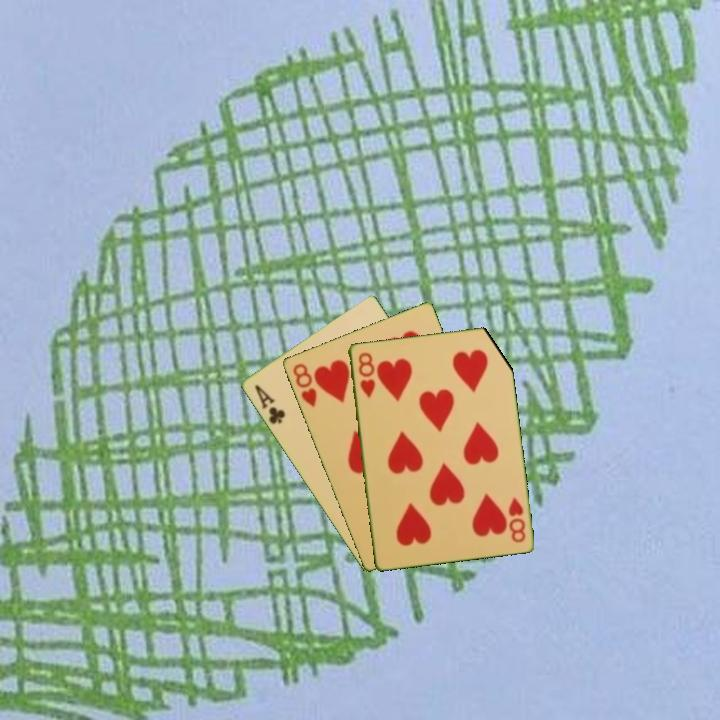8h: (289, 360, 320, 410), (354, 348, 378, 400), (504, 493, 528, 545)
Ac: (251, 381, 288, 427)
